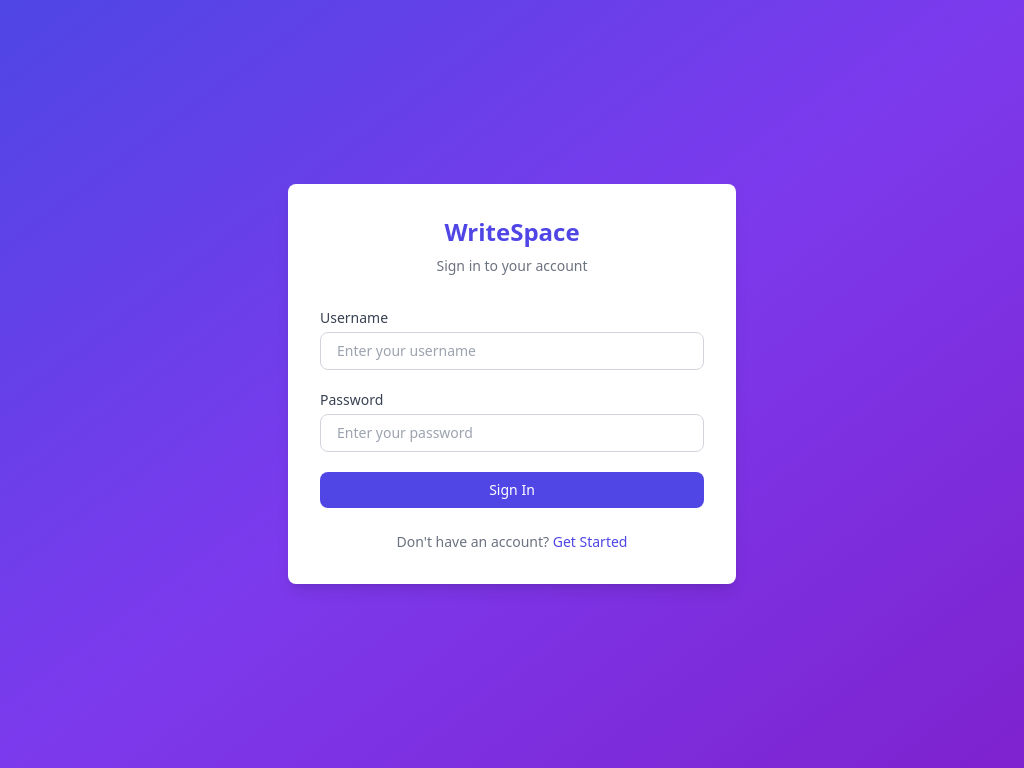
Test: LoginPage › validation › displays error when submitting with only password
The width and height of the screenshot is (1024, 768).
Type "password123" into the password field labelled "Password" at x=512, y=433, box top-left (320, 414), bottom-right (704, 452)
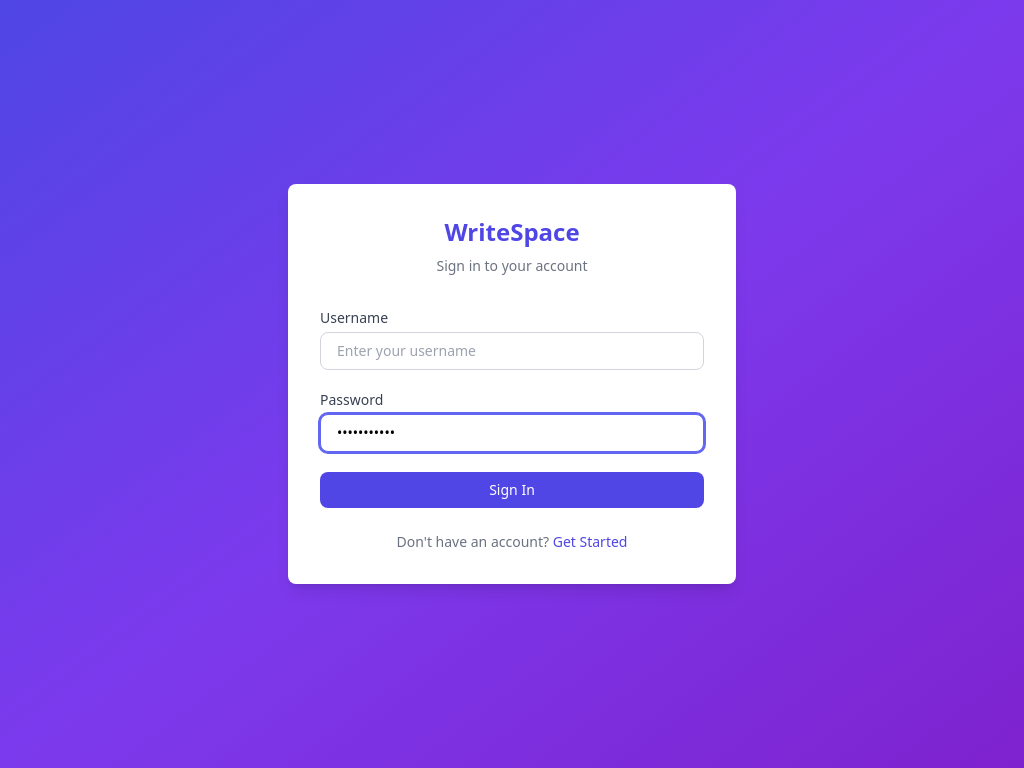
Click the button "Sign In" at x=512, y=490, box top-left (320, 472), bottom-right (704, 508)
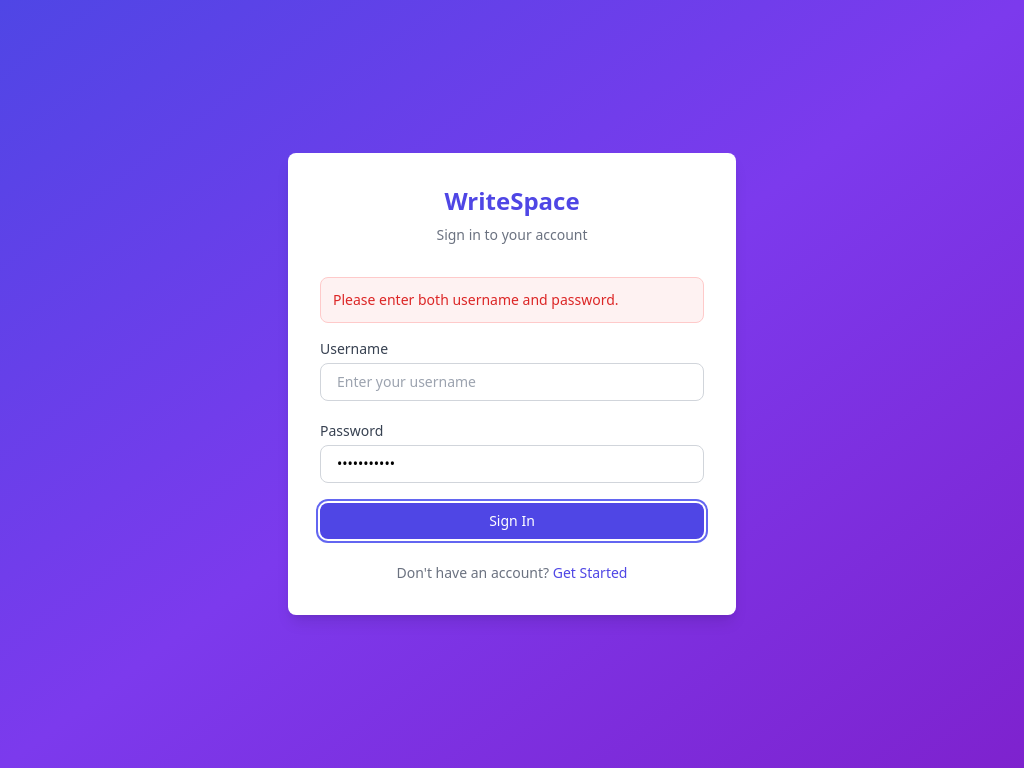
Check: the text "Please enter both username and password." is shown, box top-left (320, 277), bottom-right (704, 323)
